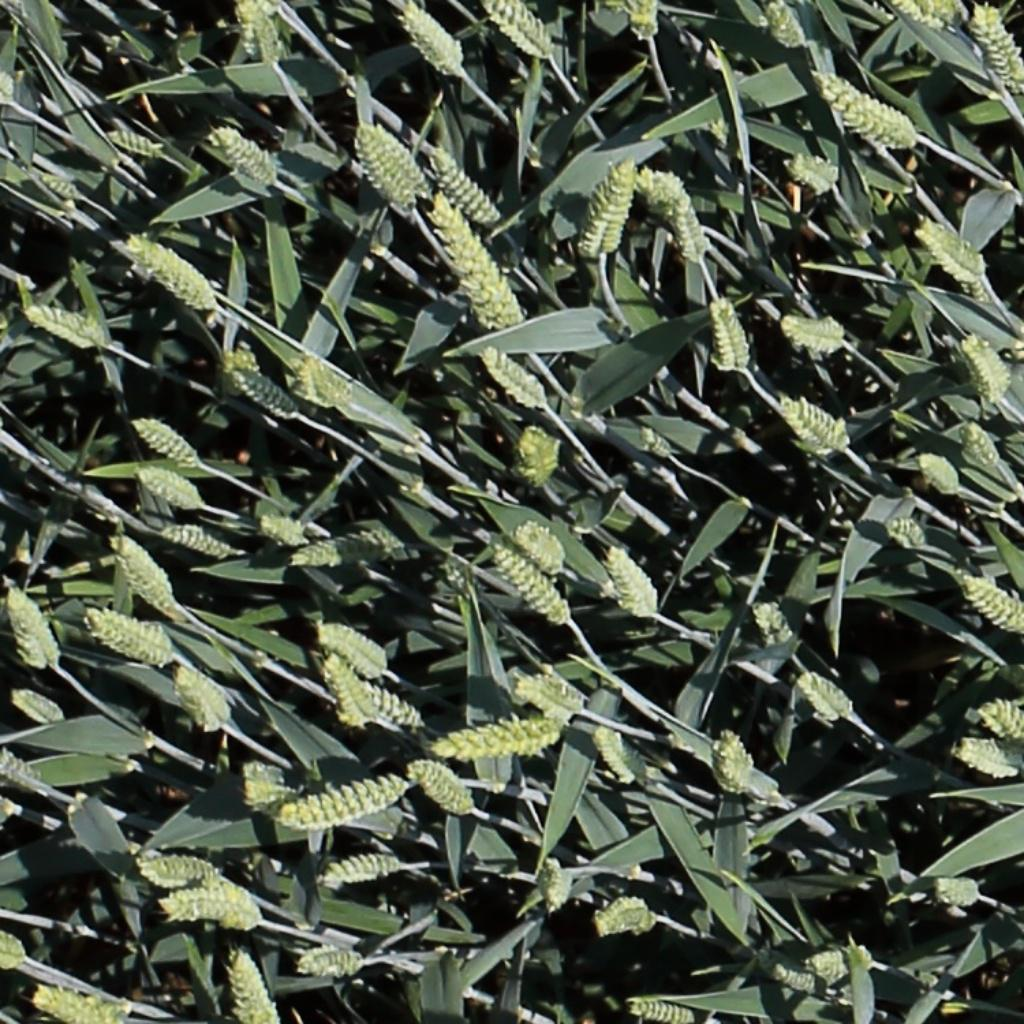0-0: (428, 184, 521, 329), (727, 560, 809, 667), (426, 708, 582, 761), (638, 159, 711, 268), (490, 540, 574, 629), (816, 70, 914, 141), (736, 935, 839, 1002), (917, 219, 997, 305), (126, 233, 214, 309), (282, 780, 406, 830), (430, 140, 502, 226), (110, 532, 180, 617), (577, 152, 630, 262), (357, 120, 423, 206), (2, 584, 64, 674), (153, 879, 260, 927), (603, 539, 664, 622), (320, 651, 383, 731), (398, 2, 465, 77), (290, 525, 413, 565), (970, 2, 1022, 96), (481, 342, 550, 410), (24, 304, 122, 351), (598, 152, 640, 258), (800, 934, 887, 985), (34, 983, 147, 1022), (226, 943, 278, 1024), (423, 549, 483, 618), (84, 611, 169, 659), (173, 663, 230, 734), (313, 847, 406, 889), (214, 124, 279, 184), (487, 1, 555, 58), (961, 573, 1024, 633), (782, 397, 851, 451), (961, 329, 1010, 405), (316, 625, 389, 675), (409, 761, 475, 816), (711, 290, 752, 375), (132, 416, 199, 468), (592, 722, 641, 790), (230, 367, 297, 416), (952, 730, 1018, 779), (360, 682, 425, 730), (795, 671, 854, 723), (296, 354, 356, 405), (135, 466, 204, 509), (766, 150, 843, 188), (959, 415, 1006, 477), (718, 727, 756, 800), (516, 522, 569, 573), (132, 851, 219, 882), (516, 679, 581, 719), (520, 420, 557, 490), (236, 0, 273, 68), (159, 525, 234, 558), (764, 1, 811, 51), (610, 0, 660, 47), (921, 864, 980, 903), (914, 450, 965, 495), (251, 0, 282, 72), (298, 942, 365, 974), (10, 690, 65, 726), (780, 318, 851, 345), (540, 853, 567, 924), (636, 421, 678, 461), (980, 703, 1022, 742), (628, 999, 697, 1022), (887, 516, 931, 552), (898, 1, 950, 31), (107, 126, 159, 154), (0, 748, 39, 785), (259, 516, 309, 544), (38, 169, 80, 199), (0, 914, 24, 965), (928, 0, 966, 30), (0, 38, 16, 106)
